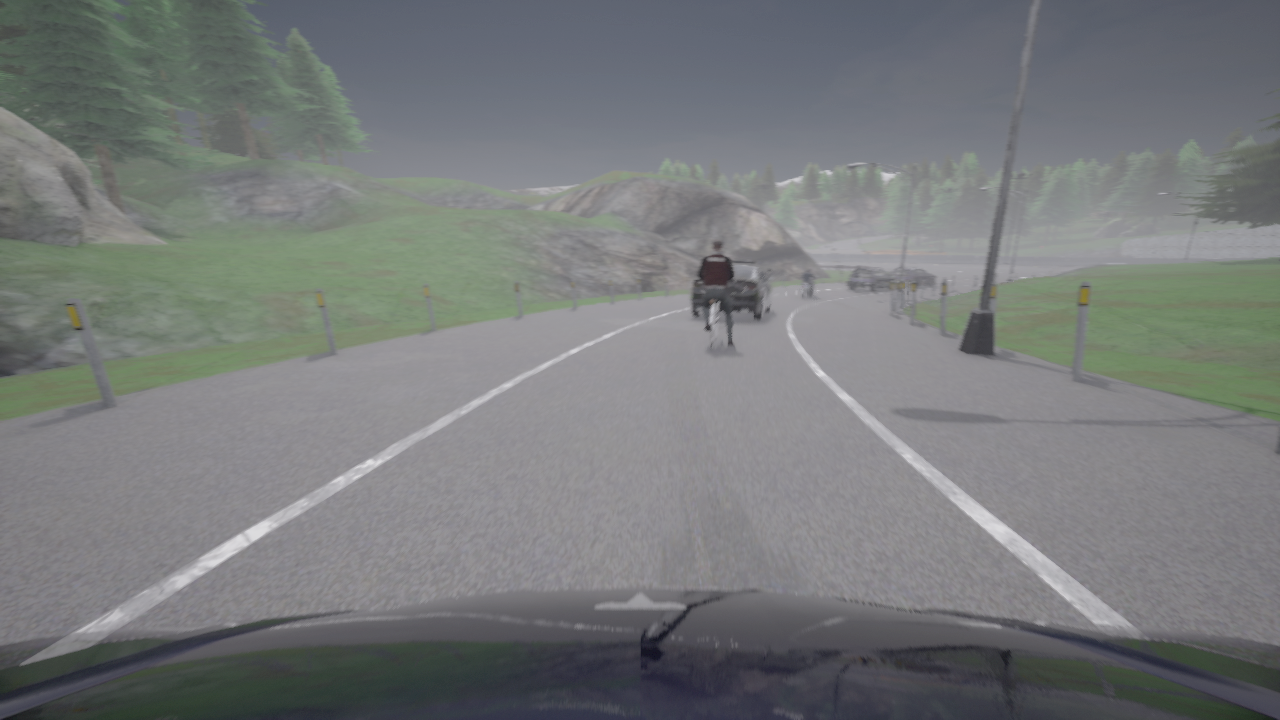cyclist: (0, 588, 1279, 719), (690, 260, 773, 320), (847, 267, 895, 291), (704, 300, 724, 351), (889, 266, 935, 288), (800, 278, 814, 297), (1098, 263, 1123, 264)
